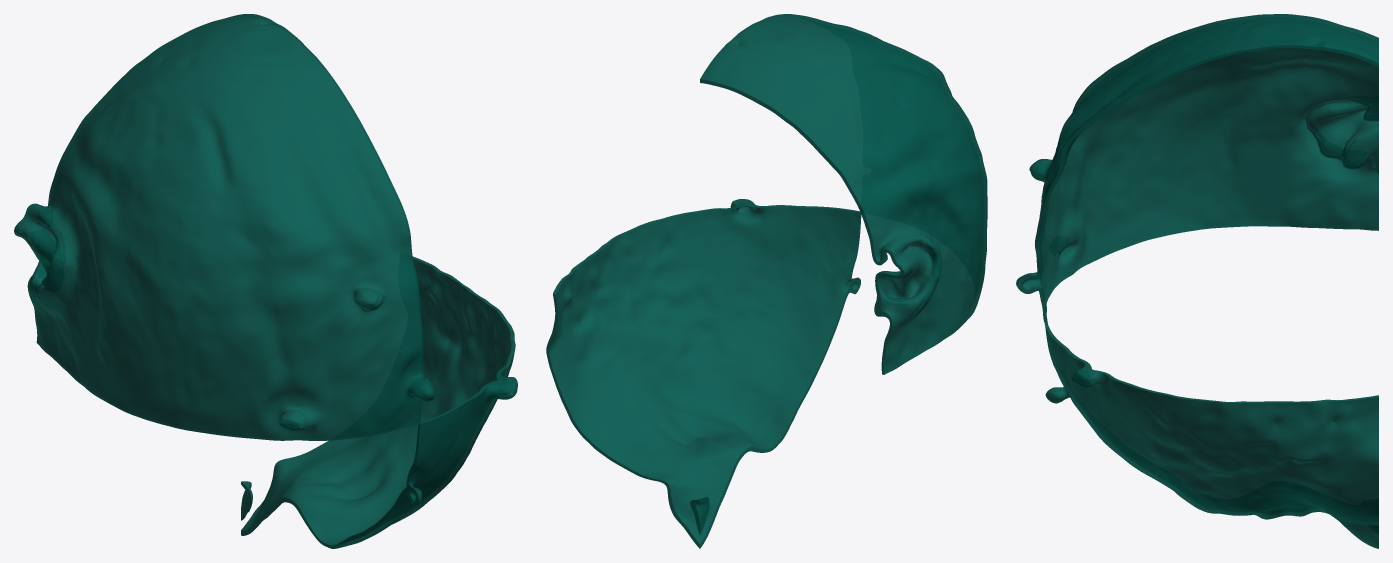
Rendered from Scalp_quadrants.obj.
3 views of the same model, side by side, from view 1: azimuth 30°, elevation 25°; view 2: azimuth 150°, elevation 25°; view 3: azimuth 270°, elevation 25° (orthographic). The views are drawn at different scales.
Visible parts, largest first — view 1: grp1; view 2: grp1; view 3: grp1.
Part boxes in pixels (x1=…): grp1: x1=14, y1=14, x2=517, y2=548; grp1: x1=546, y1=14, x2=987, y2=548; grp1: x1=1016, y1=14, x2=1378, y2=548.
Size of the model in its own units: 173 by 219 by 143.
